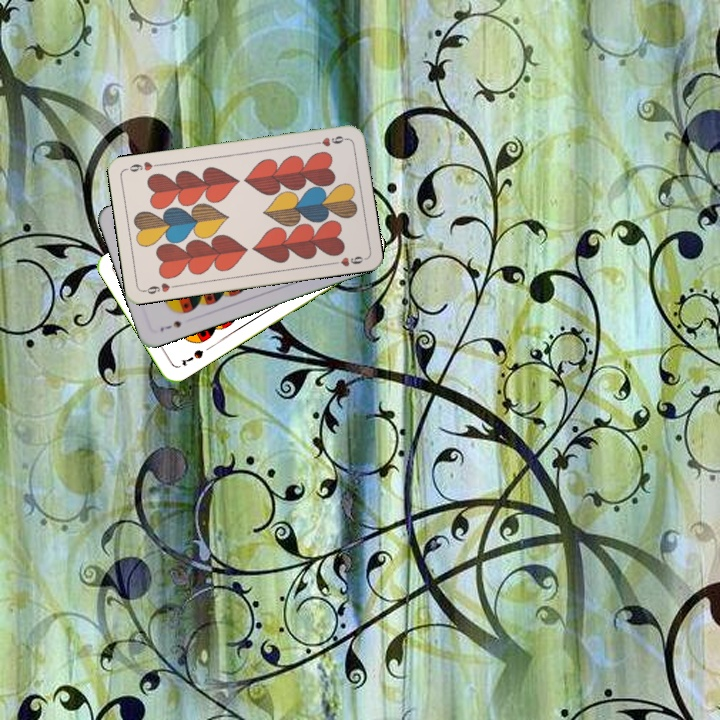H9: (140, 279, 180, 297), (309, 132, 349, 149)
S7: (178, 345, 206, 368), (156, 317, 184, 334)
